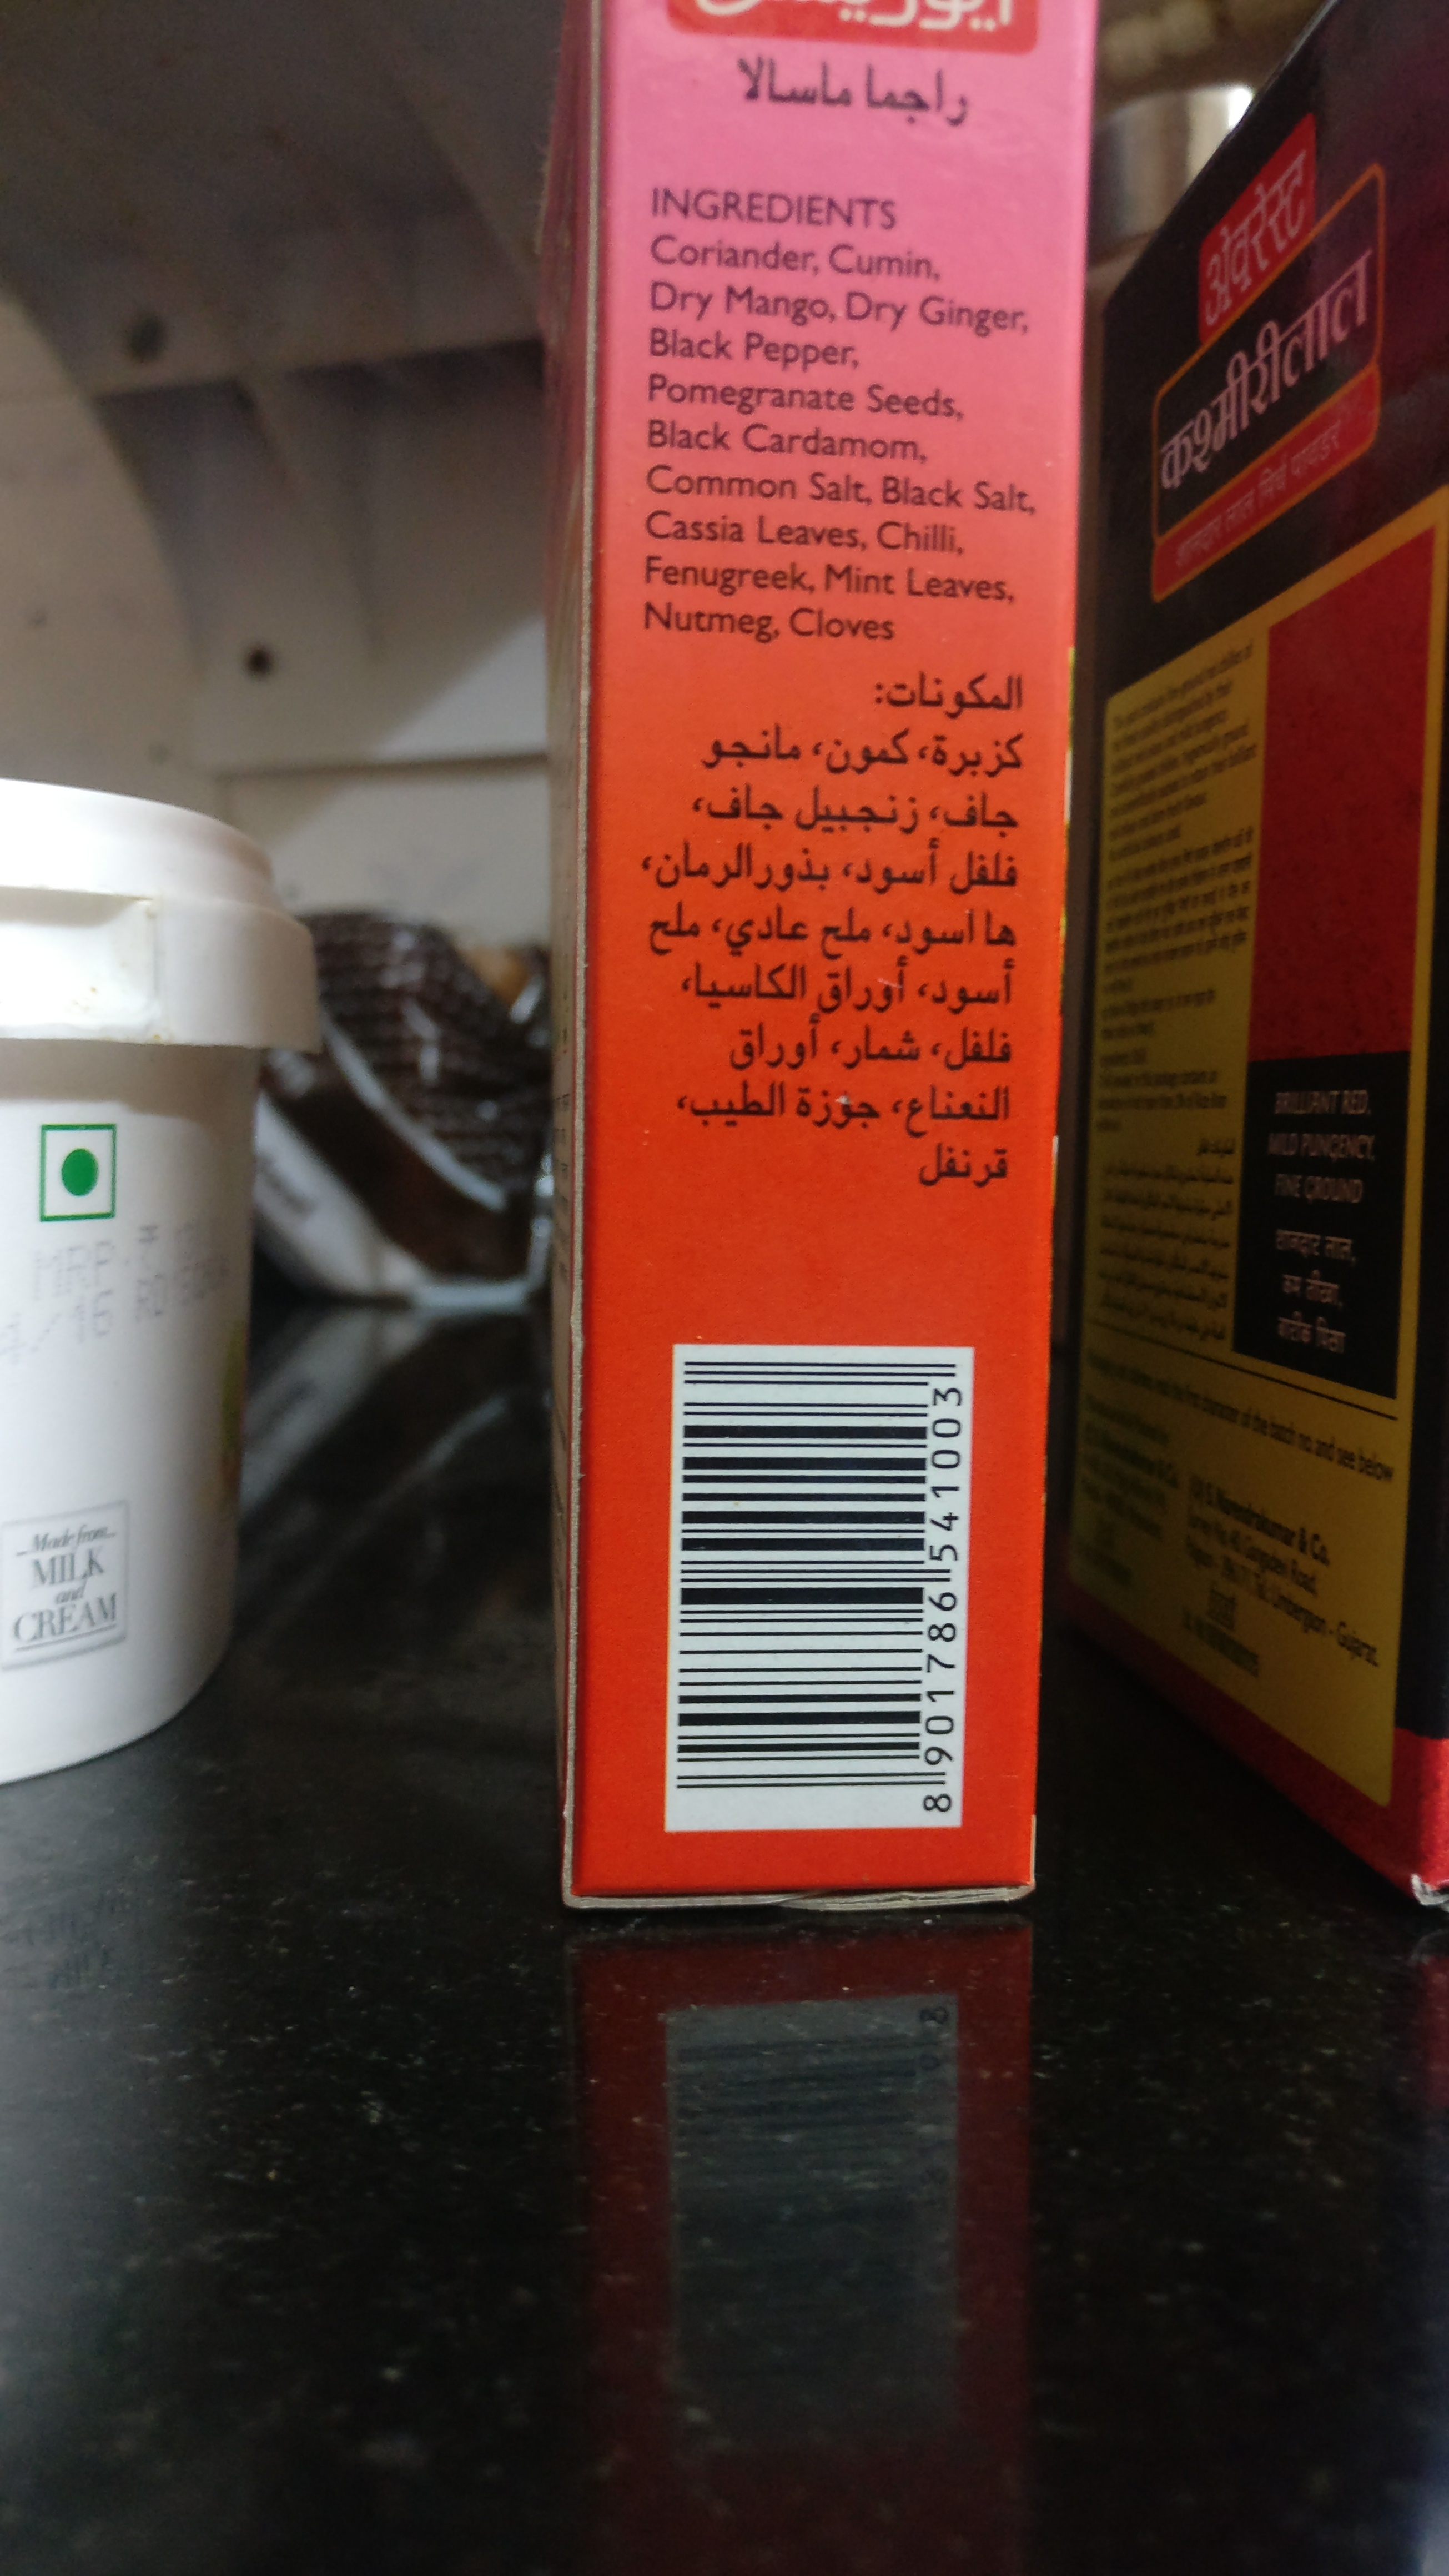barcode: (665, 1338, 961, 1835)
